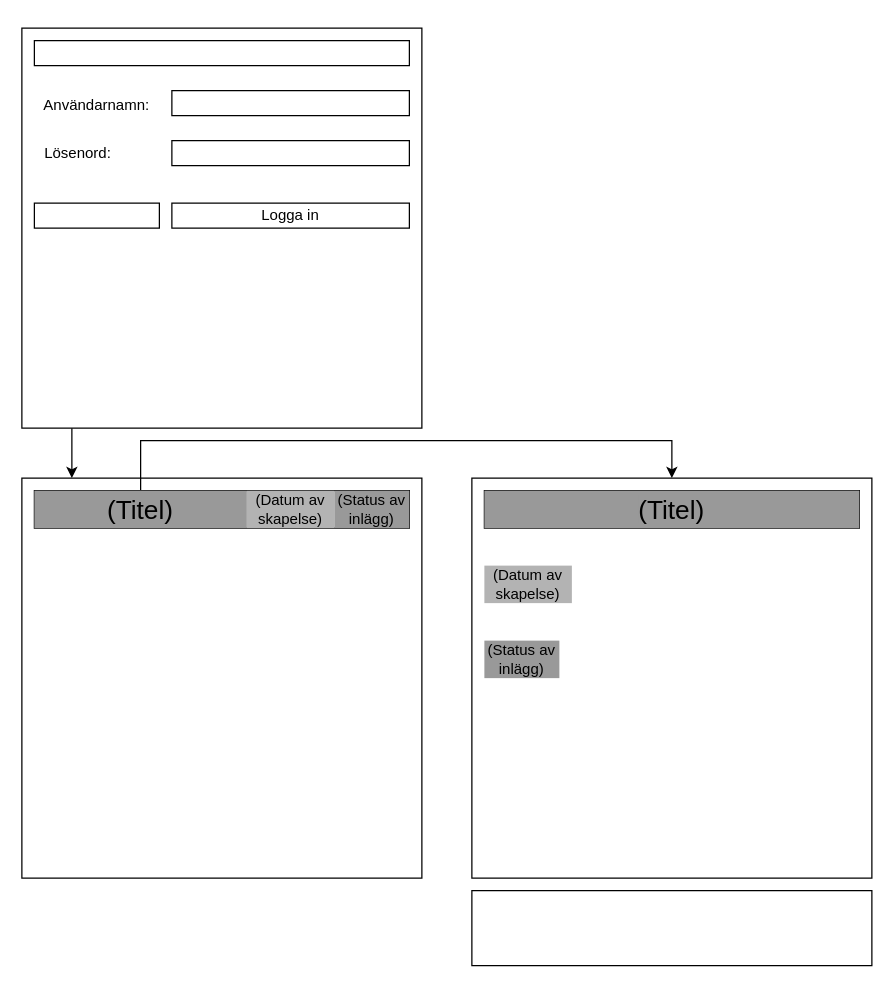
Some shapes in this 894 by 988 pixel diagram are drawn without their labels. The shapes that lost their labels are listed below. From the top down, each one's box as (x1, y1, x2, y2) in pixels, then its label:
(33, 39, 409, 66): Allmänt ärendehanteringssystem
(33, 202, 159, 228): Registrera konto
(471, 889, 872, 966): Textfält för kommentering
